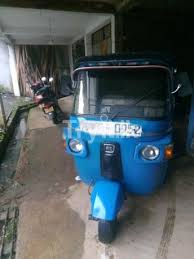tuk tuk: (63, 54, 180, 243)
